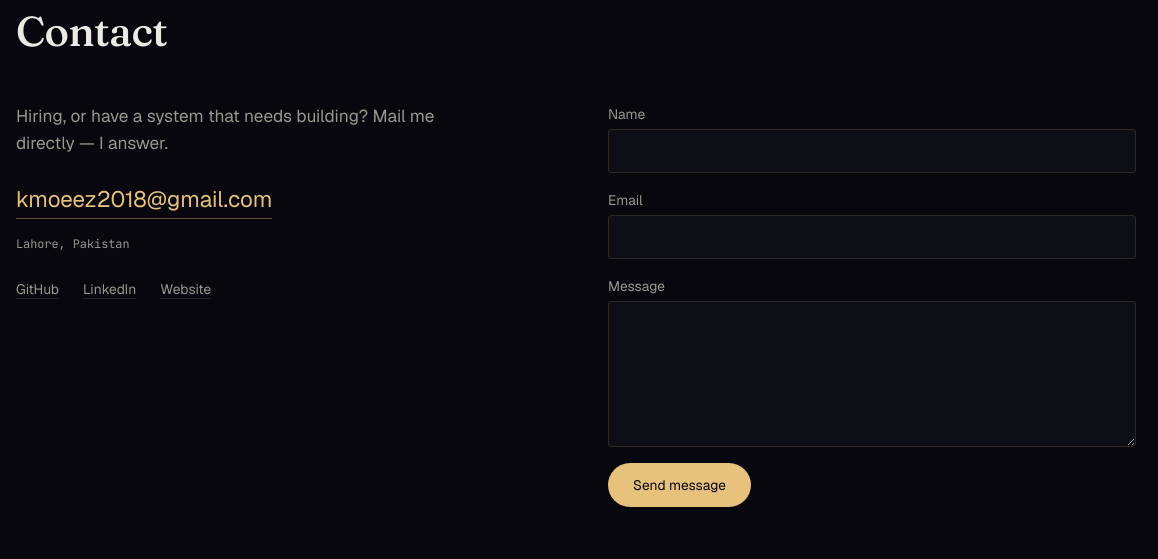
Contact › posts a valid message and confirms it
Step 1. Type "Sam Recruiter" into the field labelled "Name" → (872, 151), box [608,129,1136,173]
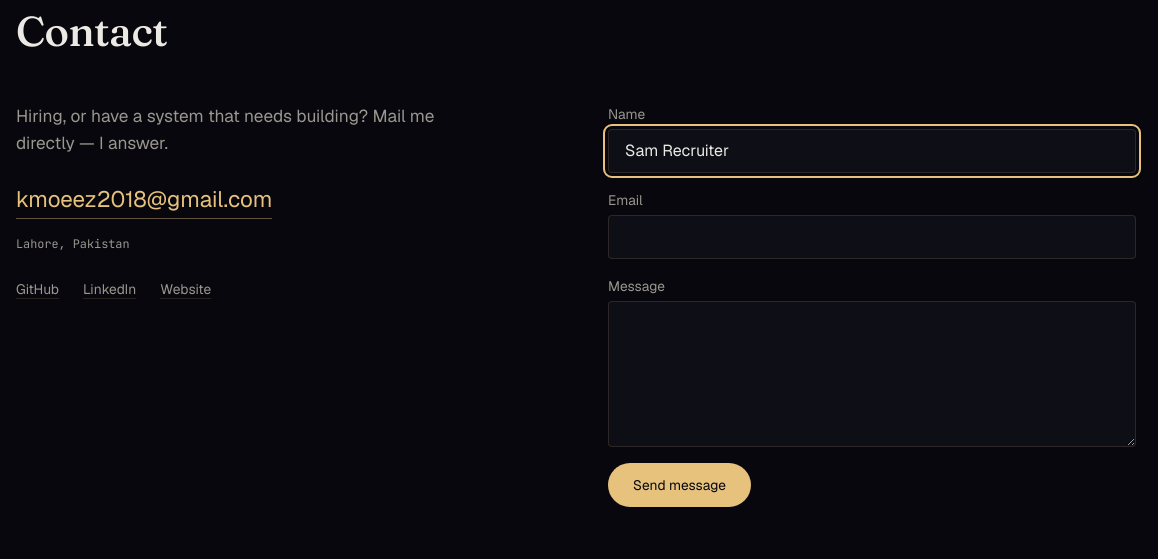
Step 2. Type "sam@example.com" into the field labelled "Email" → (872, 237), box [608,215,1136,259]
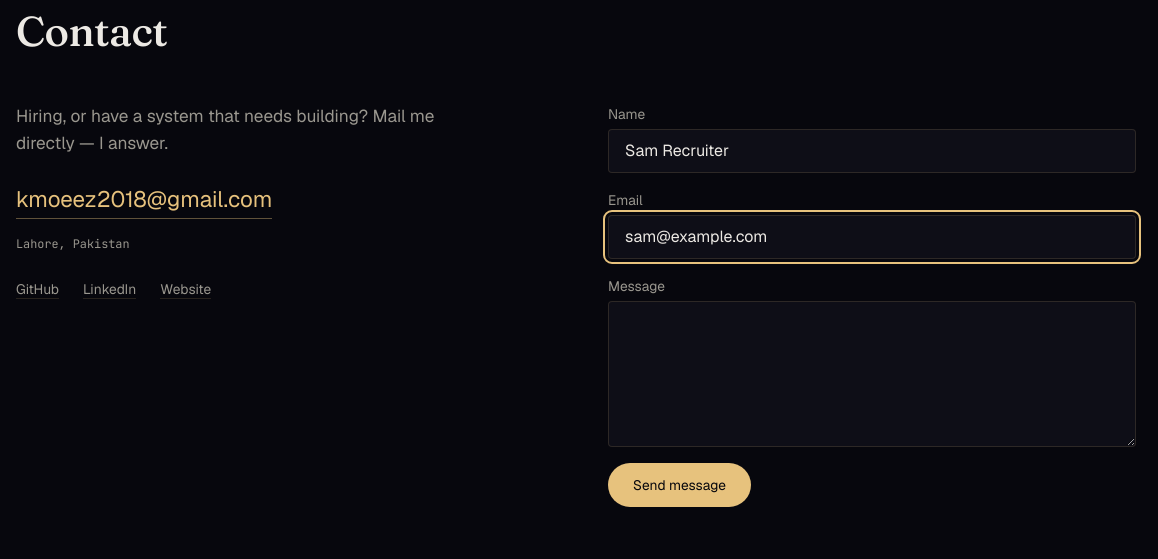
Step 3. Type "We have a CV role open." into the text box labelled "Message" → (872, 374), box [608,301,1136,447]
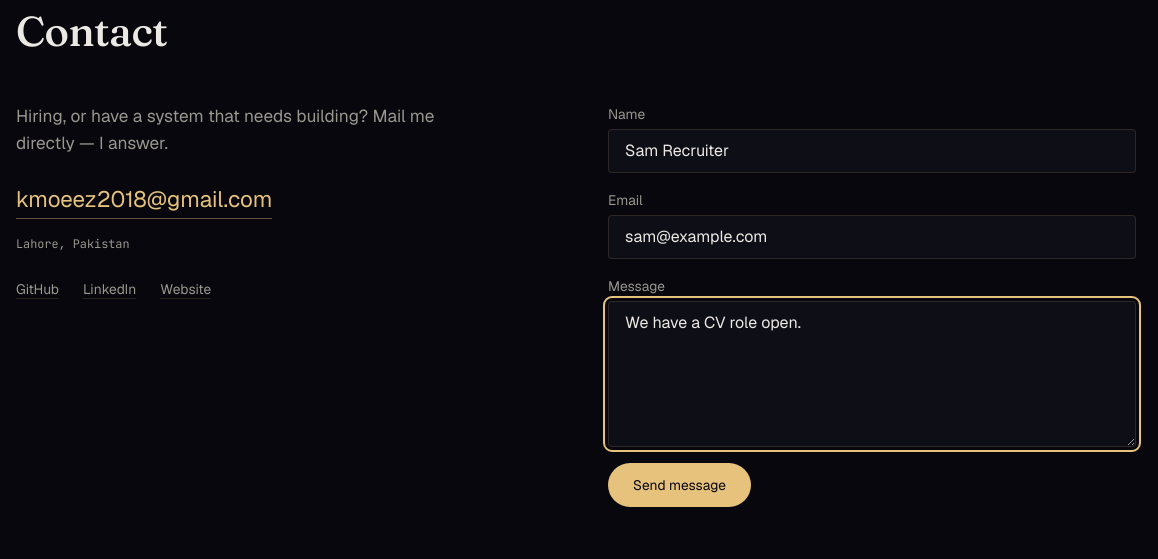
Step 4. Click the button "Send message" → (679, 485), box [608,463,751,507]
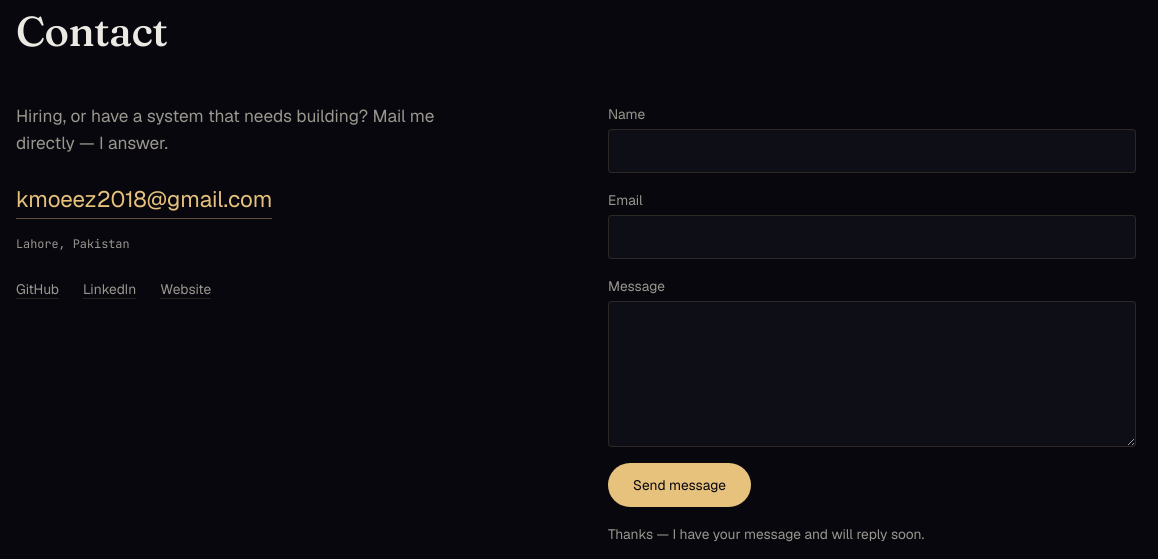
Expected: the message shows "Thanks", [608,525,924,543]
